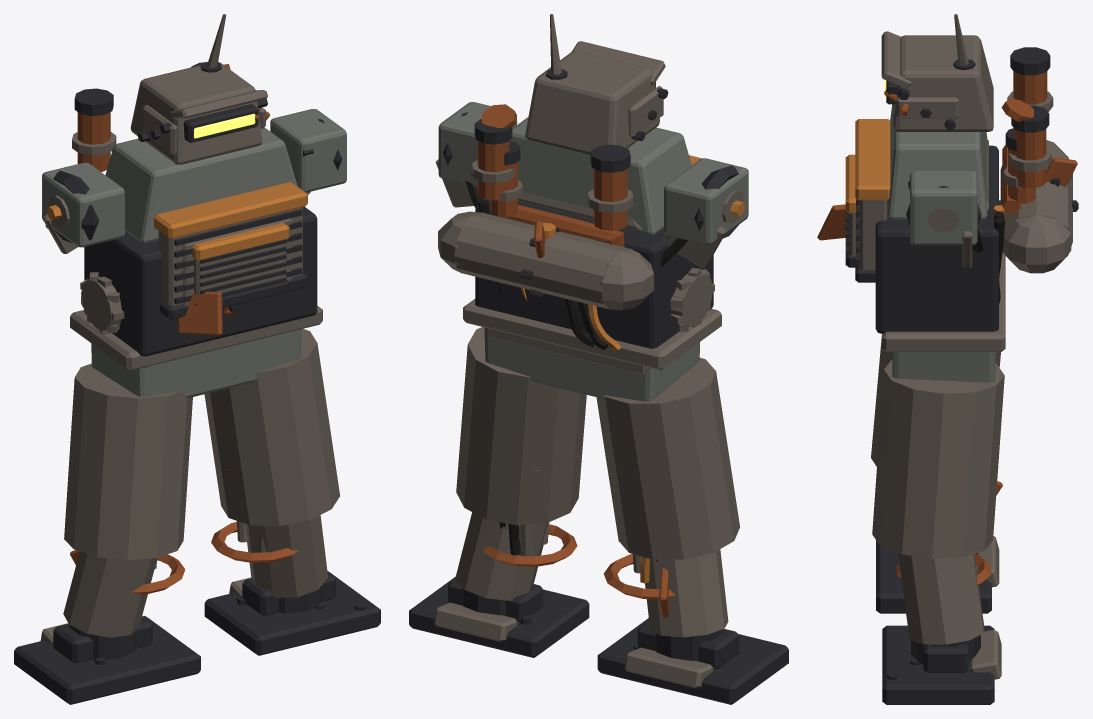
The model's file is ch_brute.glb.
3 renders of one model, left to right at view 1: azimuth 30°, elevation 25°; view 2: azimuth 150°, elevation 25°; view 3: azimuth 270°, elevation 25°, orthographic. The views are drawn at different scales.
Visible parts, largest first — view 1: ch_brute, limb_leg_l, limb_leg_r; view 2: ch_brute, limb_leg_l, limb_leg_r; view 3: ch_brute, limb_leg_r, limb_leg_l.
Boxes of the visible parts, <box> form: ch_brute: <box>42,14,346,397</box>; limb_leg_l: <box>14,363,200,704</box>; limb_leg_r: <box>204,329,380,655</box>; ch_brute: <box>435,14,748,401</box>; limb_leg_l: <box>596,357,788,704</box>; limb_leg_r: <box>409,327,589,657</box>; ch_brute: <box>817,14,1078,382</box>; limb_leg_r: <box>872,359,1004,704</box>; limb_leg_l: <box>871,335,1002,613</box>.
Bounding box in the file's own units: 0.4284 × 0.7957 × 0.2989.
